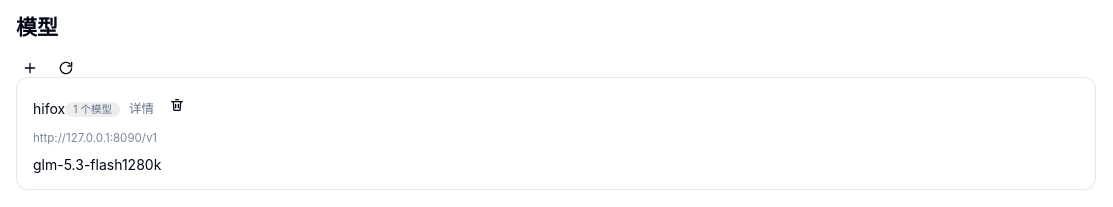
Scenario: ModelPage › requires a second click before removing a provider
Expected: the text "hifox" is shown, left=33, top=99, right=65, bottom=116
Click the button named "删除 hifox" at (177, 105), box left=163, top=96, right=191, bottom=114
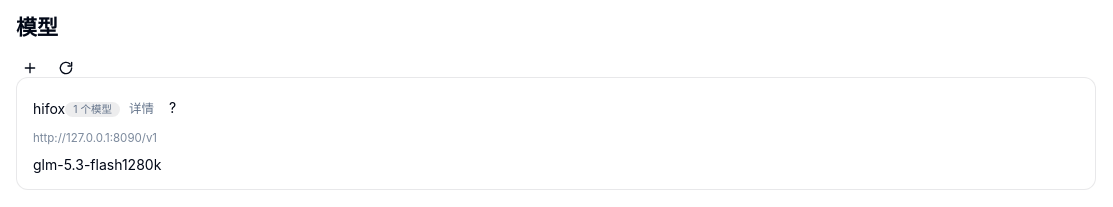
Expected: the button named "确认删除 hifox" is shown
Click the button named "确认删除 hifox" at (172, 108), box left=163, top=98, right=182, bottom=117
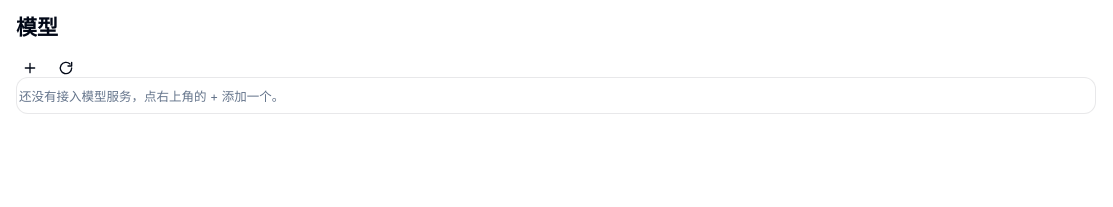
Expected: the text "还没有接入模型服务，点右上角的 + 添加一个。" is shown, left=19, top=89, right=284, bottom=104
